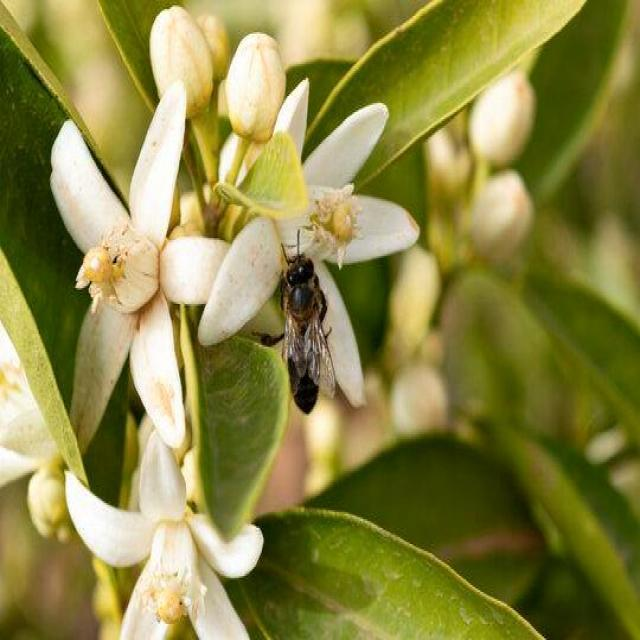Bunga: (206, 80, 420, 407), (48, 85, 226, 450), (65, 435, 266, 640), (152, 7, 214, 121), (226, 30, 288, 144), (469, 172, 536, 266), (470, 73, 538, 164)
